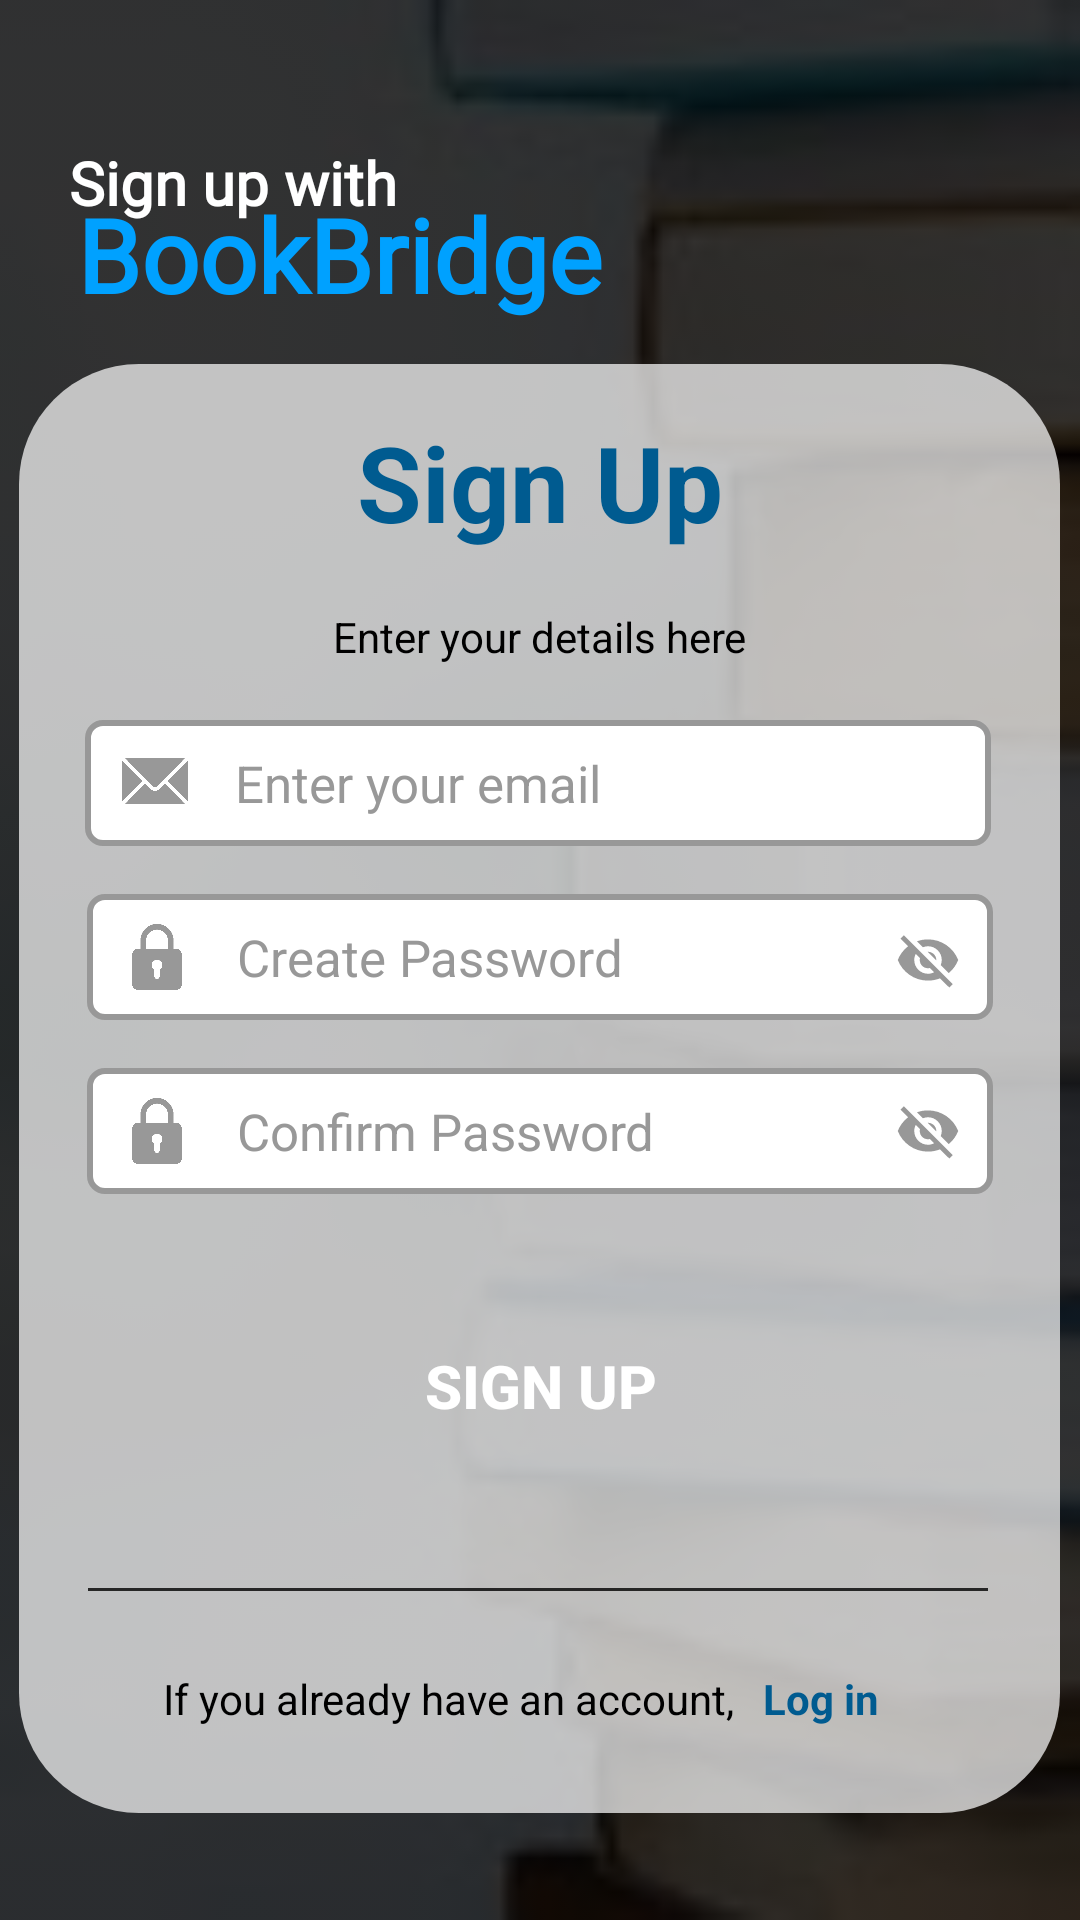

Icons on this 1080w x 1920h Android screen, each with its box as (x1, y1, x2, y2):
visibility off: (898, 935, 958, 988), (898, 1106, 958, 1159)
